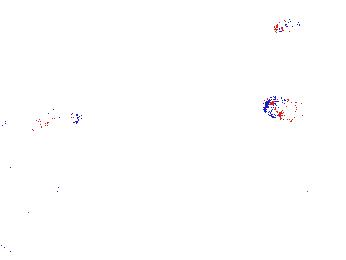X-ray fish: (258, 95, 303, 124)
red belly glassfish: (273, 17, 301, 37)
redtail glassfish: (1, 105, 86, 137)
